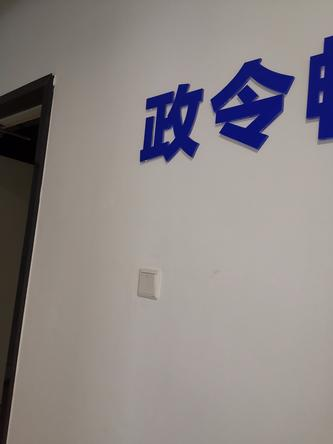switch: (136, 264, 158, 302)
